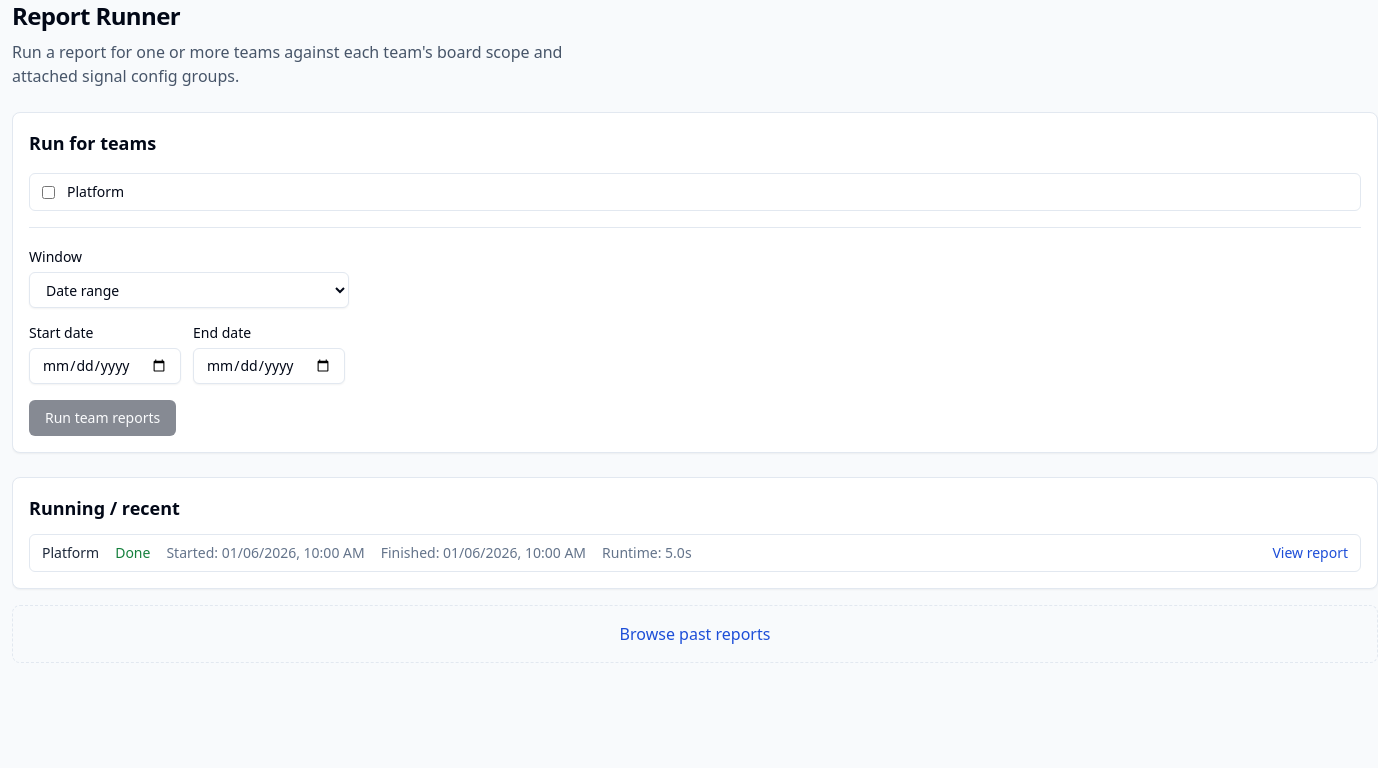
it: ReportRunnerPage › runs a report for a selected team and navigates to the report
Click the checkbox labelled "Platform" at point(48, 192), box top-left (42, 186), bottom-right (55, 198)
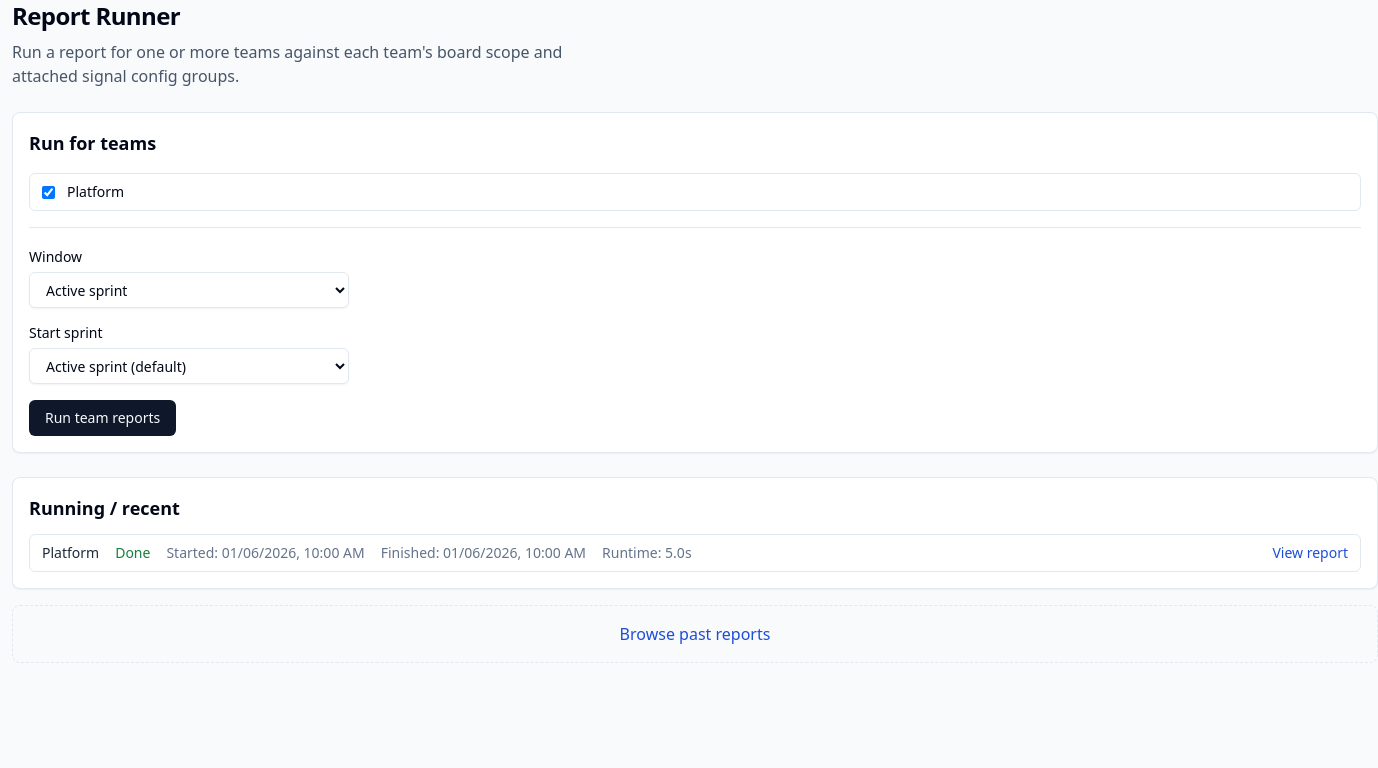
Select "Active sprint" in the dropdown labelled "Window" at point(189, 290), box top-left (29, 272), bottom-right (349, 308)
Click the button "Run team reports" at point(103, 418), box top-left (29, 400), bottom-right (176, 436)
(page scrolled)
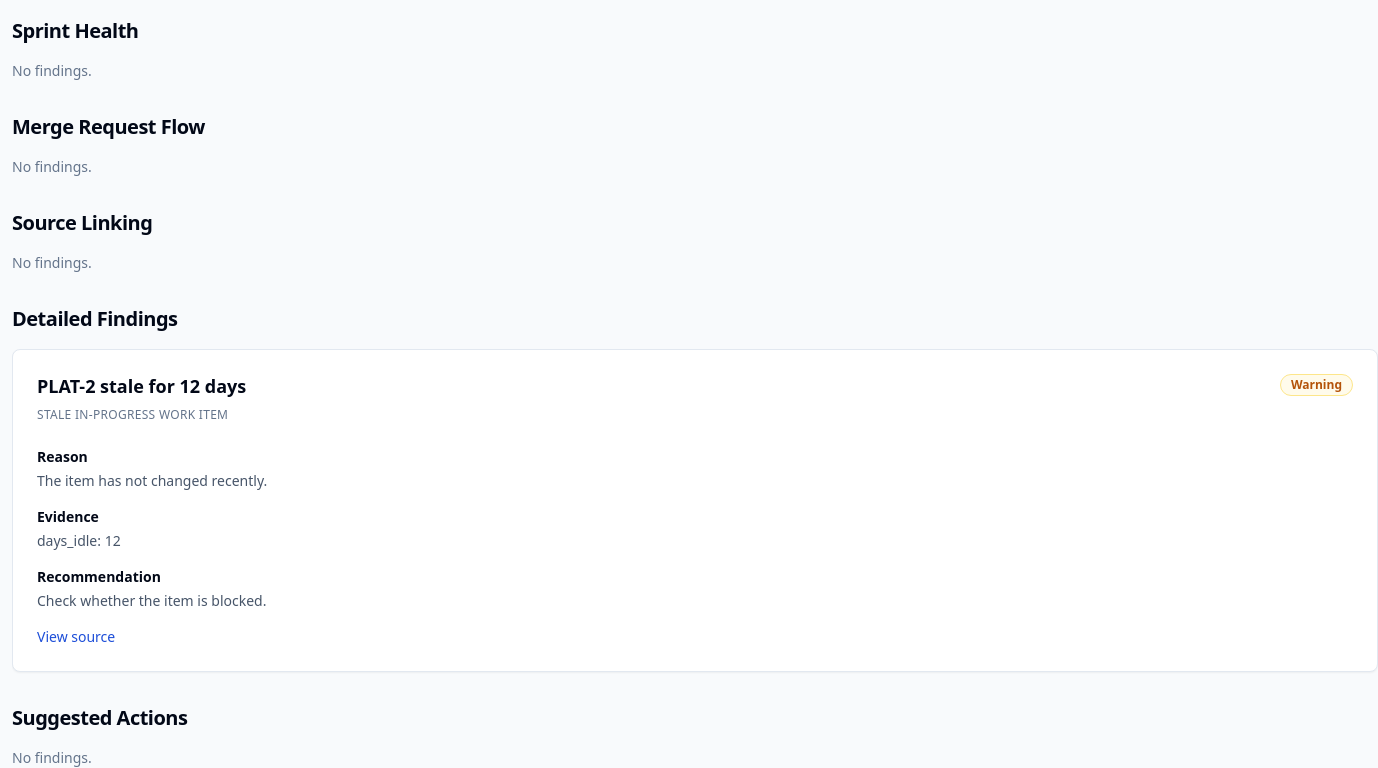
Result: the heading "PLAT-2 stale for 12 days" is shown at top-left (37, 374), bottom-right (246, 399)
